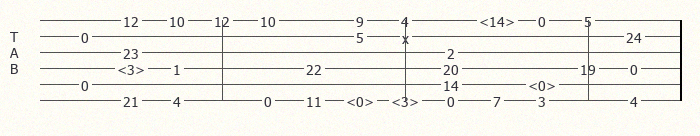0: (81, 29, 93, 43), (81, 77, 93, 91), (264, 93, 276, 107), (447, 93, 459, 107), (538, 13, 550, 27), (630, 61, 642, 75)
1: (173, 61, 185, 75)
10: (169, 13, 189, 27), (260, 13, 280, 27)
11: (306, 93, 326, 107)
12: (123, 13, 143, 27), (214, 13, 234, 27)
14: (443, 77, 463, 91)
19: (580, 61, 600, 75)
2: (447, 45, 459, 59)
20: (443, 61, 463, 75)
21: (123, 93, 143, 107)
22: (306, 61, 326, 75)
23: (123, 45, 143, 59)
24: (626, 29, 646, 43)
3: (538, 93, 550, 107)
4: (173, 93, 185, 107), (401, 13, 413, 27), (630, 93, 642, 107)
5: (356, 29, 368, 43), (584, 13, 596, 27)
7: (493, 93, 505, 107)
9: (356, 13, 368, 27)
harmonic: (479, 13, 519, 27), (117, 61, 149, 75), (346, 93, 378, 107), (391, 93, 423, 107), (528, 77, 560, 91)
x: (402, 30, 413, 42)
